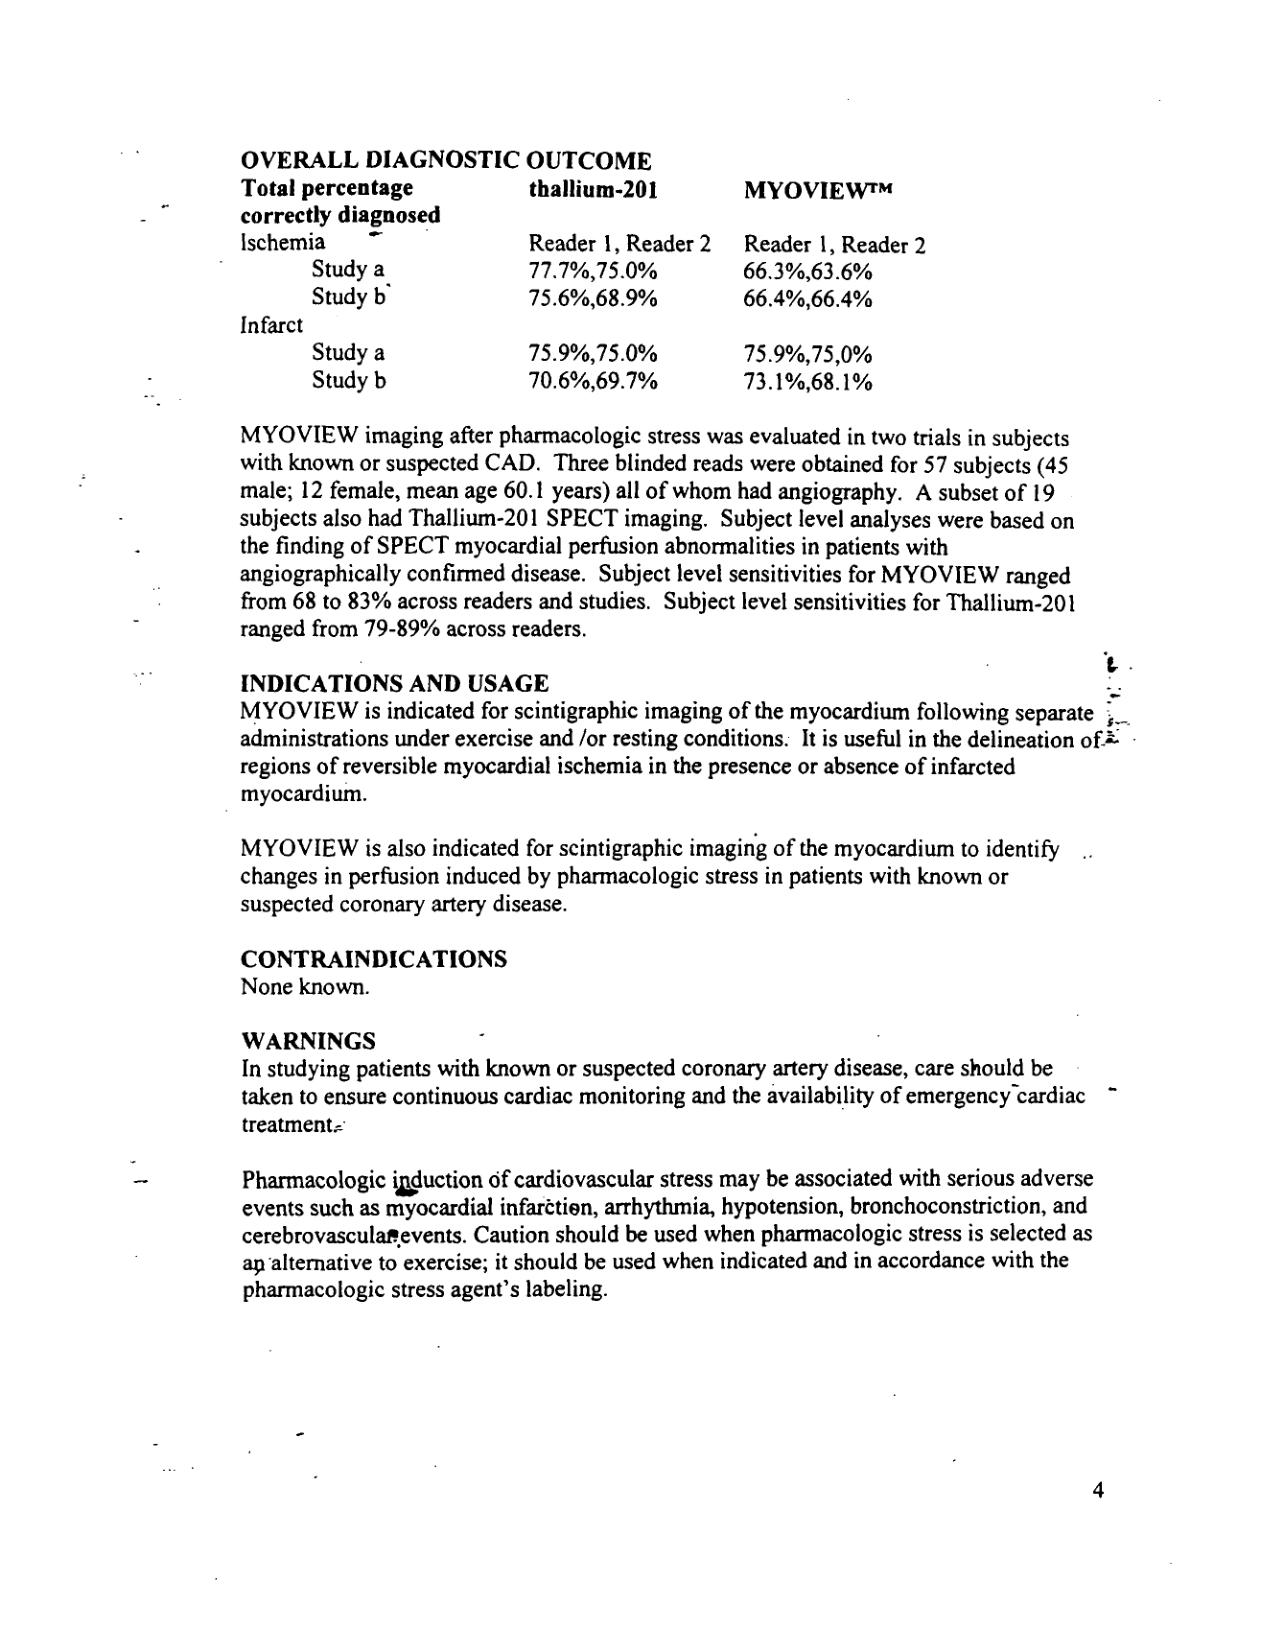nolines: (239, 178, 927, 396)
